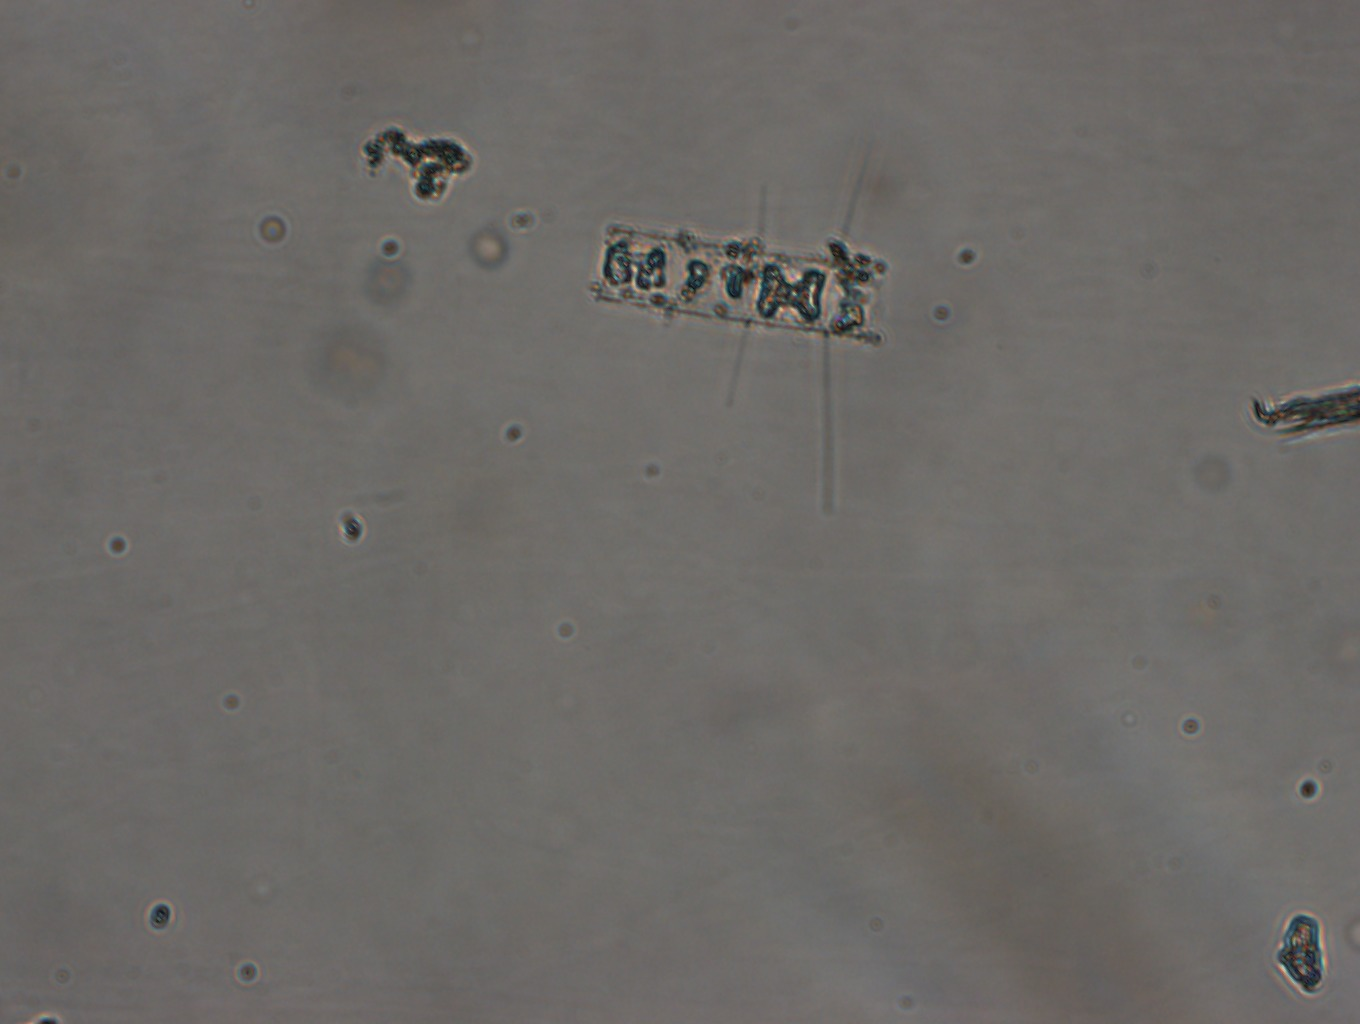chaetoceros: (591, 159, 887, 532)
